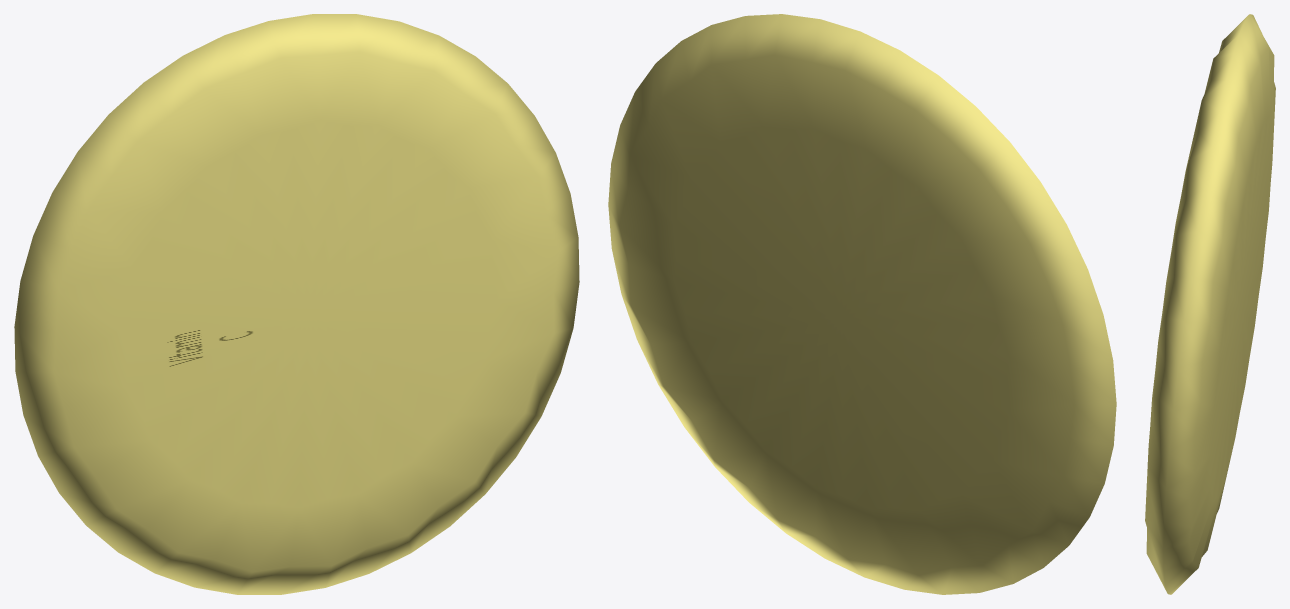
File: vitaminc.fbx
3 views of the same model, side by side, from view 1: azimuth 30°, elevation 25°; view 2: azimuth 150°, elevation 25°; view 3: azimuth 270°, elevation 25° (orthographic). The views are drawn at different scales.
Parts seen in each view (by area): view 1: pCylinder1; view 2: pCylinder1; view 3: pCylinder1.
Part boxes in pixels (x1,y1,x2,y2): pCylinder1: [14, 14, 579, 594]; pCylinder1: [608, 14, 1116, 594]; pCylinder1: [1145, 14, 1275, 594].
Bounding box in the file's own units: 10.01 × 10.04 × 2.25.
1 material, 1 textured.
